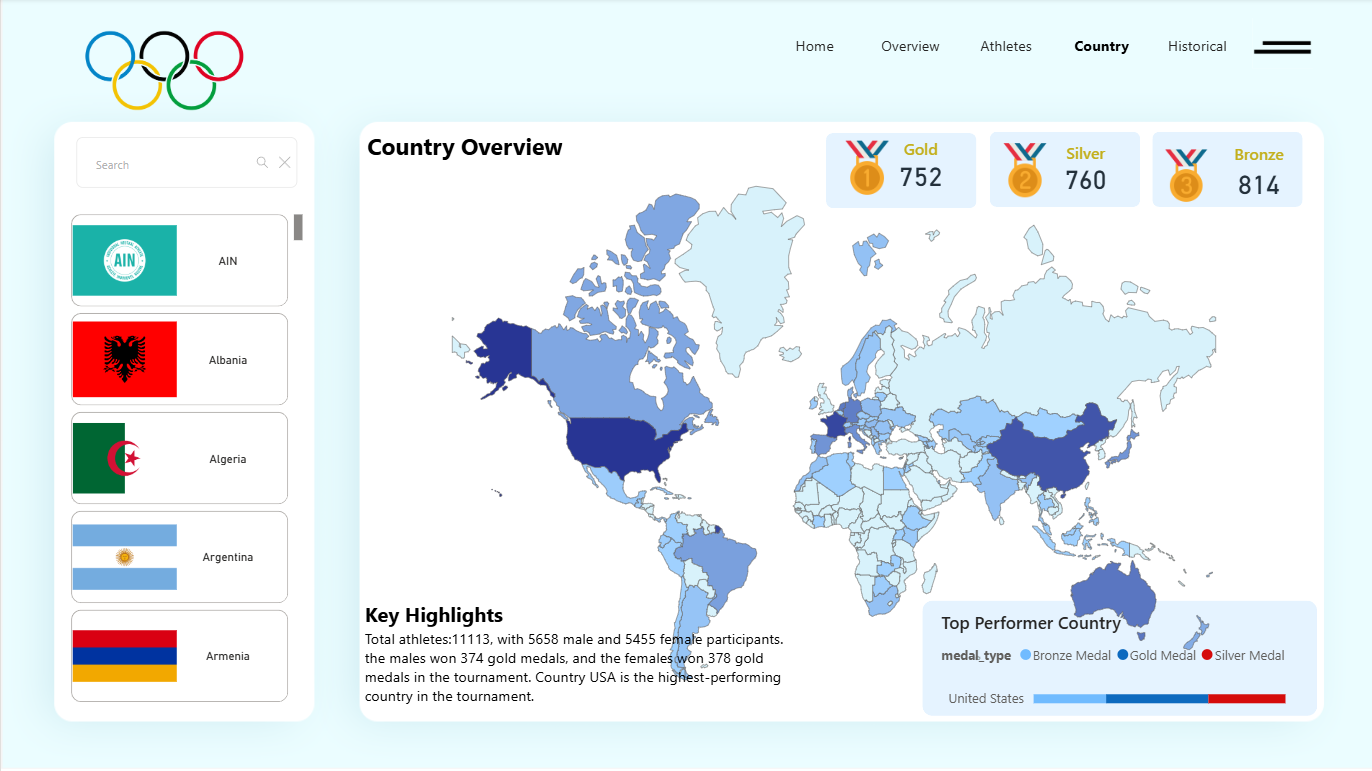

Layout of this report page (visuals, bound fields, positions):
{"tool":"powerbi","page":{"name":"Country","canvas":[1280,720],"ordinal":3},"visuals":[{"type":"shape","box":[857.2,560.5,367.5,107.5],"z":0},{"type":"shapeMap","fields":{"Category":["medallists.country"],"Value":["Olympic_Measures.Total_Madels"]},"box":[341.2,152.5,878.8,512.5],"z":1000},{"type":"shape","box":[341.2,121.2,540,31.2],"z":2000},{"type":"barChart","title":"Top Performer Country","fields":{"Category":["medallists.country"],"Series":["medallists.medal_type"],"Y":["Olympic_Measures.Total_Madels"]},"box":[869.7,569.3,380,107.5],"z":3000},{"type":"shape","box":[338.5,557,401.2,130],"z":4000},{"type":"shape","box":[338.5,557,163.8,31.2],"z":5000},{"type":"card","title":"Silver","fields":{"Values":["Olympic_Measures.Total_Silver_Madels"]},"box":[972.9,133.4,71.4,50],"z":6000},{"type":"card","title":"Bronze","fields":{"Values":["Olympic_Measures.Total_Bronze_Madels"]},"box":[1133.6,135,72.9,55.7],"z":7000},{"type":"card","title":"Gold","fields":{"Values":["Olympic_Measures.Total_Gold_Madels"]},"box":[816.4,130.4,78.6,51.4],"z":8000},{"type":"shape","box":[767,125.2,140,70],"z":9000},{"type":"shape","box":[1070.7,125,140,70],"z":10000},{"type":"image","box":[771.5,128.1,69.8,60.5],"z":11000},{"type":"shape","box":[919.5,124.5,140,70],"z":12000},{"type":"image","box":[1070.7,136.4,62.9,58.6],"z":13000},{"type":"image","title":"21 Image","box":[920,130.6,65.7,60],"z":14000},{"type":"advancedSlicerVisual","fields":{"Values":["medallists.country"]},"box":[60,196.2,225,468.8],"z":15000},{"type":"textSearchSlicerF85E2E78BE4A4D7D9F99ED75B5D71C85","fields":{"fields":["medallists.country"]},"box":[60,120,225,68.8],"z":16000},{"type":"actionButton","box":[1163.4,18.8,56.4,47],"z":17000},{"type":"image","box":[67.4,0,170.9,133.7],"z":18000},{"type":"pageNavigator","box":[717.4,18.8,439.3,49.7],"z":19000}]}

Visuals, with their boxes on the page's 1280x720 design canvas (x1, y1, x2, y2). These are canvas units, not pixel positions in the 1372x771 screenshot, which may show the page scaled, cropped or inside an application window:
shape: bbox=[857, 560, 1225, 668]
shapeMap - medallists.country x Olympic_Measures.Total_Madels: bbox=[341, 152, 1220, 665]
shape: bbox=[341, 121, 881, 152]
"Top Performer Country" barChart: bbox=[870, 569, 1250, 677]
shape: bbox=[338, 557, 740, 687]
shape: bbox=[338, 557, 502, 588]
"Silver" card: bbox=[973, 133, 1044, 183]
"Bronze" card: bbox=[1134, 135, 1206, 191]
"Gold" card: bbox=[816, 130, 895, 182]
shape: bbox=[767, 125, 907, 195]
shape: bbox=[1071, 125, 1211, 195]
image: bbox=[772, 128, 841, 189]
shape: bbox=[920, 124, 1060, 194]
image: bbox=[1071, 136, 1134, 195]
"21 Image" image: bbox=[920, 131, 986, 191]
advancedSlicerVisual - medallists.country: bbox=[60, 196, 285, 665]
textSearchSlicerF85E2E78BE4A4D7D9F99ED75B5D71C85 - medallists.country: bbox=[60, 120, 285, 189]
actionButton: bbox=[1163, 19, 1220, 66]
image: bbox=[67, 0, 238, 134]
pageNavigator: bbox=[717, 19, 1157, 68]
